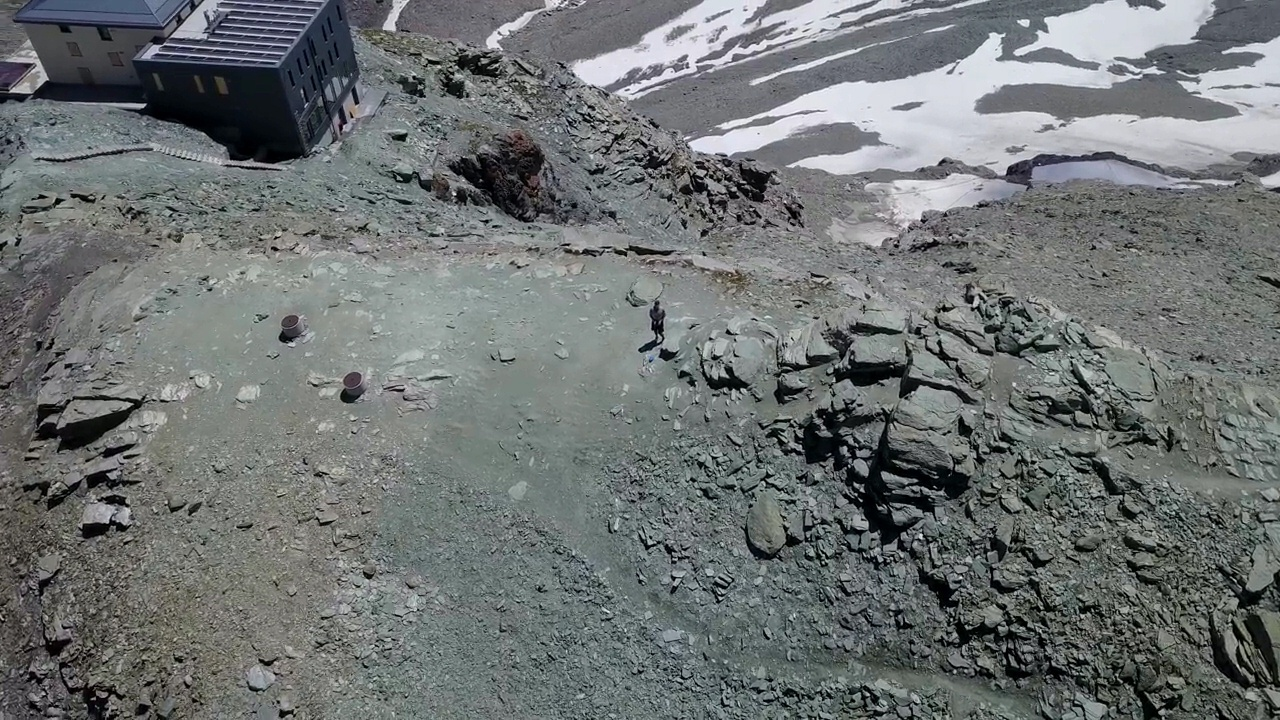insan: (648, 299, 669, 345)
